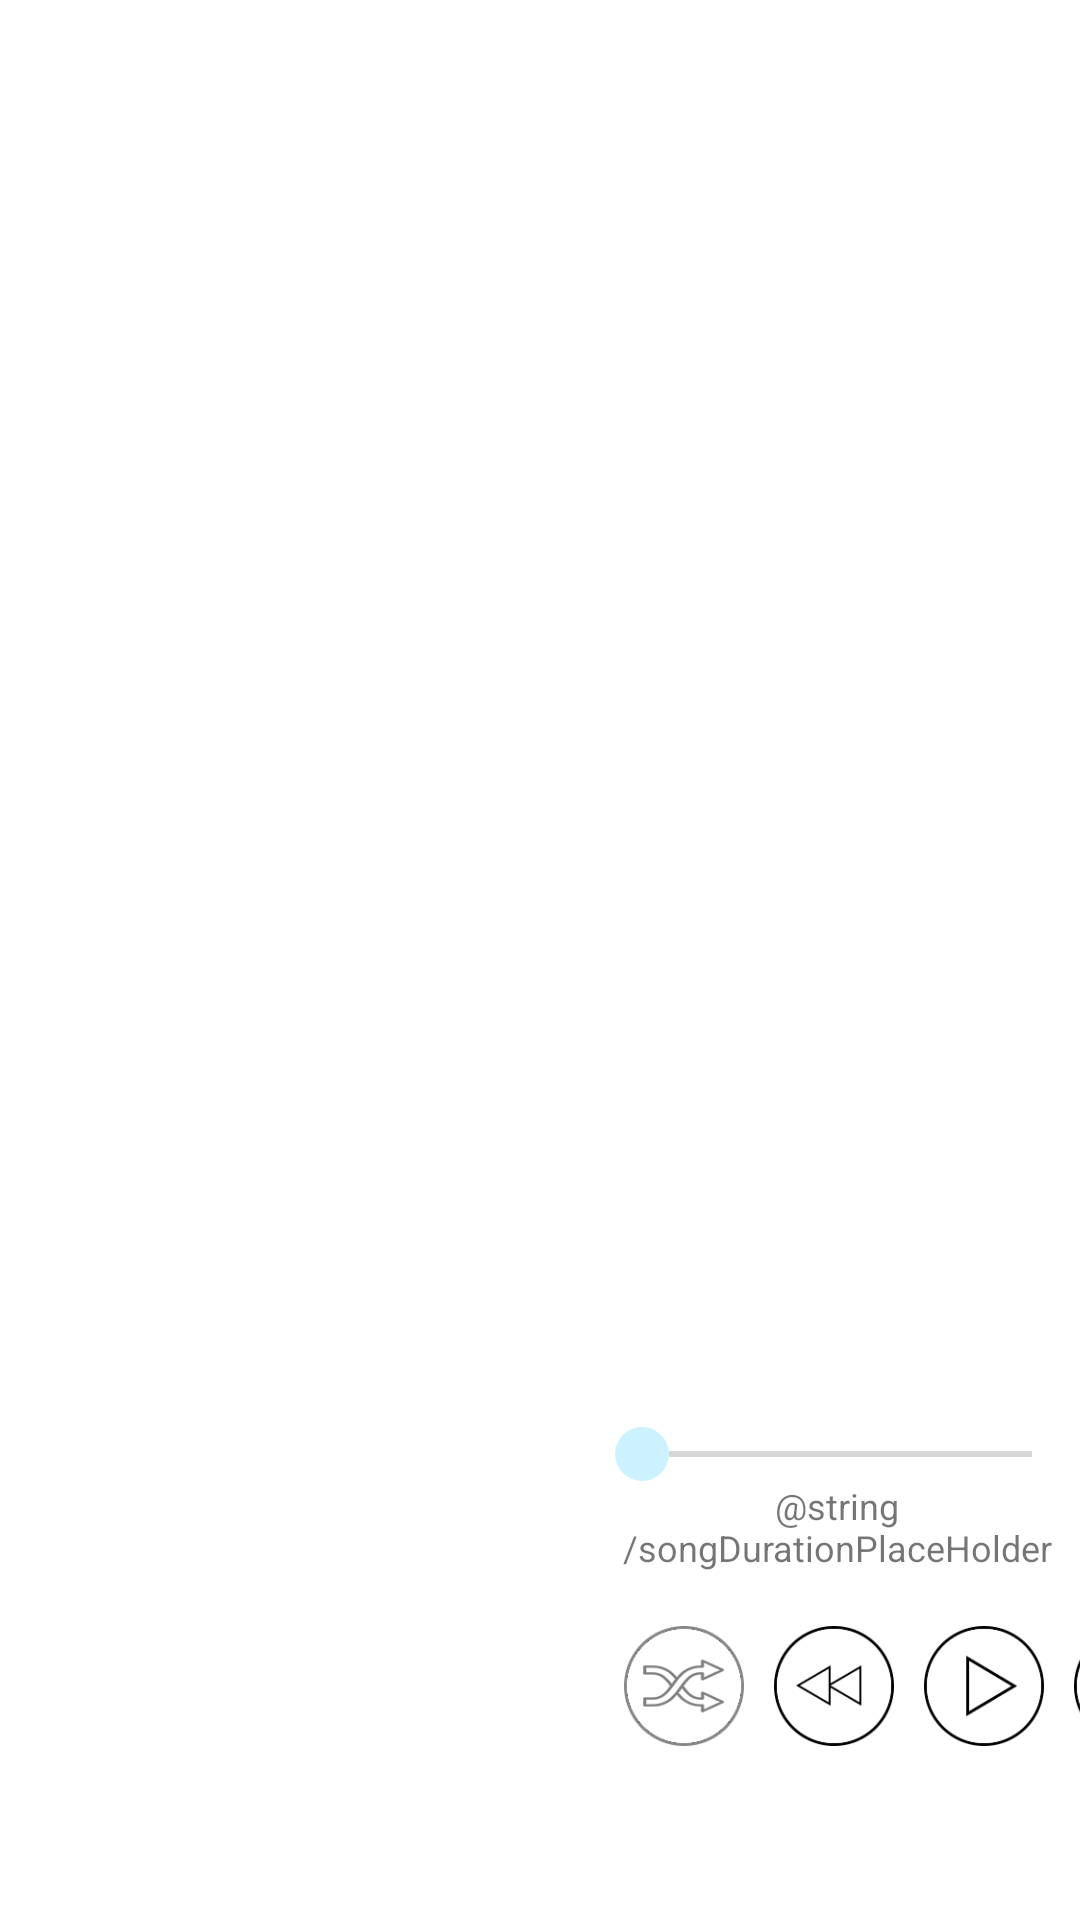

Locate icon controls on the screen. Image size 1080px×1920px, boxes as (x1, y1, x2, y2).
backward: (774, 1626, 894, 1746)
play: (924, 1626, 1044, 1746)
shuffle: (624, 1626, 744, 1746)
